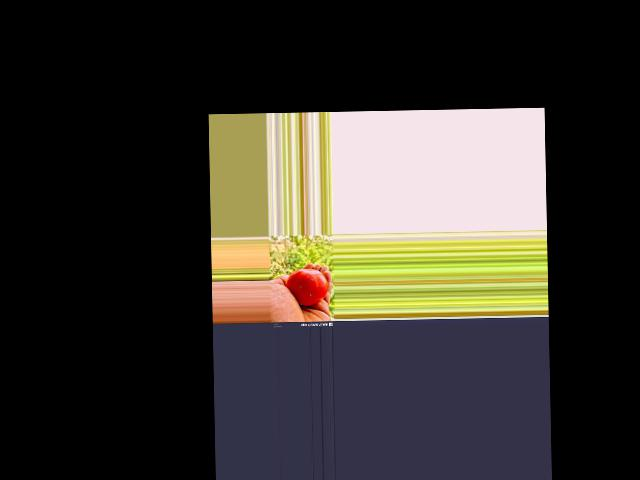tomato: (286, 268, 327, 306)
